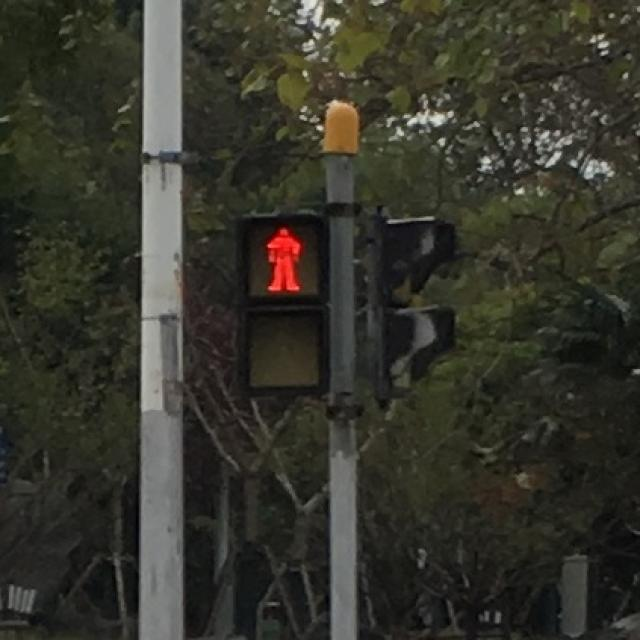red-crossing: (243, 220, 320, 300)
